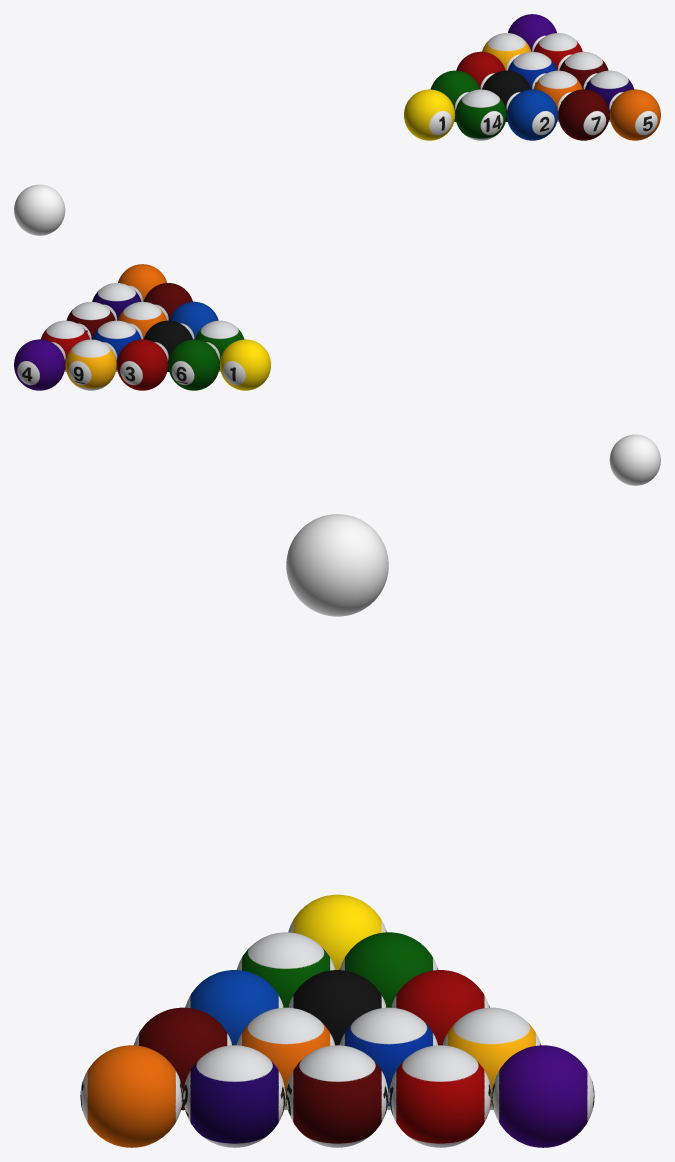
Rendered from poolballs.glb.
The picture shows the model from 3 angles, top to bottom: view 1: azimuth 30°, elevation 25°; view 2: azimuth 150°, elevation 25°; view 3: azimuth 270°, elevation 25°; orthographic projection. The views are drawn at different scales.
Visible parts, largest first — view 1: Ball_14, Ball_7, Ball_2, Ball_1, Ball_0, Ball_5, Ball_13, Ball_6, Ball_8, Ball_12, Ball_3, Ball_4 (+4 smaller); view 2: Ball_6, Ball_9, Ball_3, Ball_1, Ball_0, Ball_4, Ball_10, Ball_14, Ball_8, Ball_11, Ball_2, Ball_5 (+4 smaller); view 3: Ball_5, Ball_12, Ball_11, Ball_4, Ball_15, Ball_0, Ball_13, Ball_10, Ball_7, Ball_9, Ball_14, Ball_6 (+4 smaller).
Part boxes in pixels (x1,y1,x2,y2): Ball_14: (455,89,506,140); Ball_7: (558,89,609,140); Ball_2: (506,89,557,140); Ball_1: (404,89,455,140); Ball_0: (14,184,65,235); Ball_5: (609,89,660,140); Ball_13: (533,70,582,121); Ball_6: (430,70,479,121); Ball_8: (482,70,530,121); Ball_12: (585,70,633,121); Ball_3: (456,51,505,89); Ball_4: (508,14,556,51); Ball_6: (168,339,219,390); Ball_9: (65,339,116,390); Ball_3: (117,339,168,390); Ball_1: (219,339,270,390); Ball_0: (609,434,660,485); Ball_4: (14,339,65,390); Ball_10: (92,320,141,371); Ball_14: (195,320,244,371); Ball_8: (144,320,192,371); Ball_11: (41,320,89,371); Ball_2: (169,301,218,339); Ball_5: (118,264,166,301); Ball_5: (80,1045,182,1147); Ball_12: (183,1045,285,1147); Ball_11: (389,1045,491,1147); Ball_4: (492,1045,594,1147); Ball_15: (286,1045,388,1147); Ball_0: (286,514,388,616); Ball_13: (236,1007,335,1110); Ball_10: (339,1007,438,1110); Ball_7: (134,1007,232,1110); Ball_9: (442,1007,540,1110); Ball_14: (236,932,335,1007); Ball_6: (339,932,438,1007).
Size of the model in its own units: 0.7549 by 0.057 by 0.2856.
Materials: 16 (15 with a texture image).
